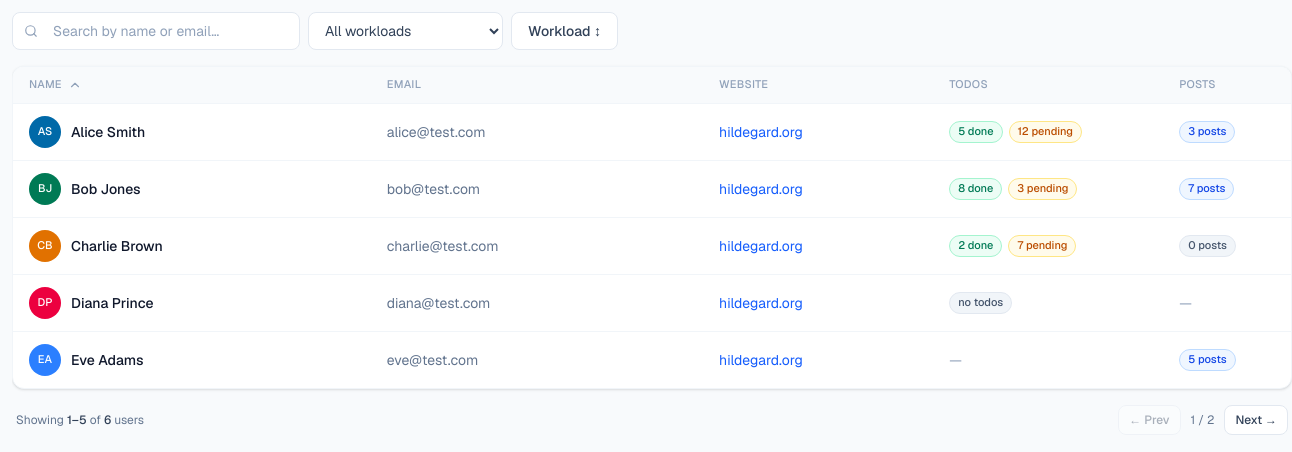
UsersTable › filters users by search input (name or email)
Step 1. Type "bob" into the field named "Search users" → (156, 31), box [12,12,300,50]
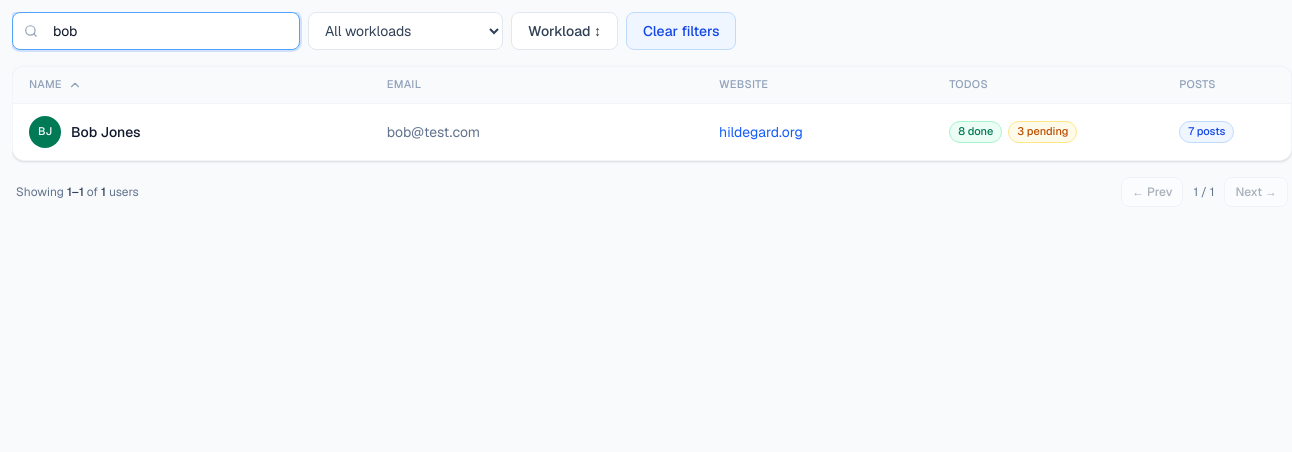
Check: the text "Alice Smith" is gone
